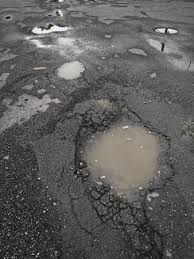Pothole: (67, 99, 181, 220)
